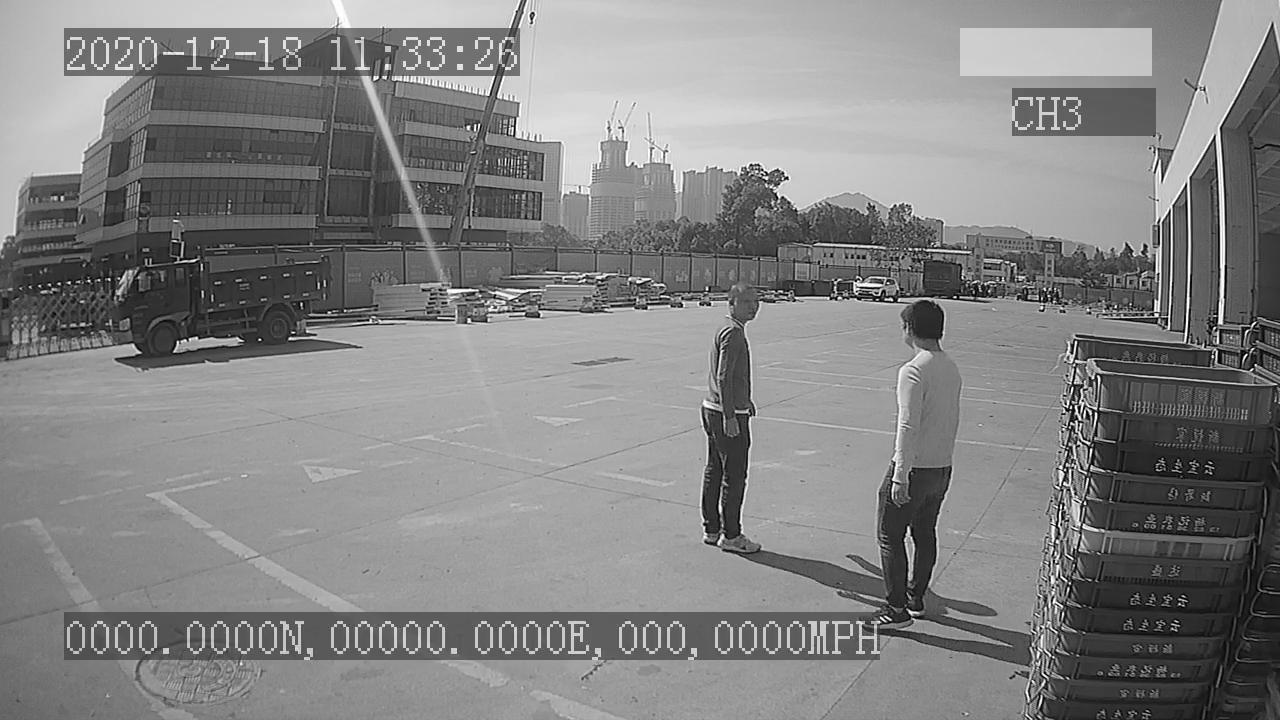person: (699, 278, 769, 555)
